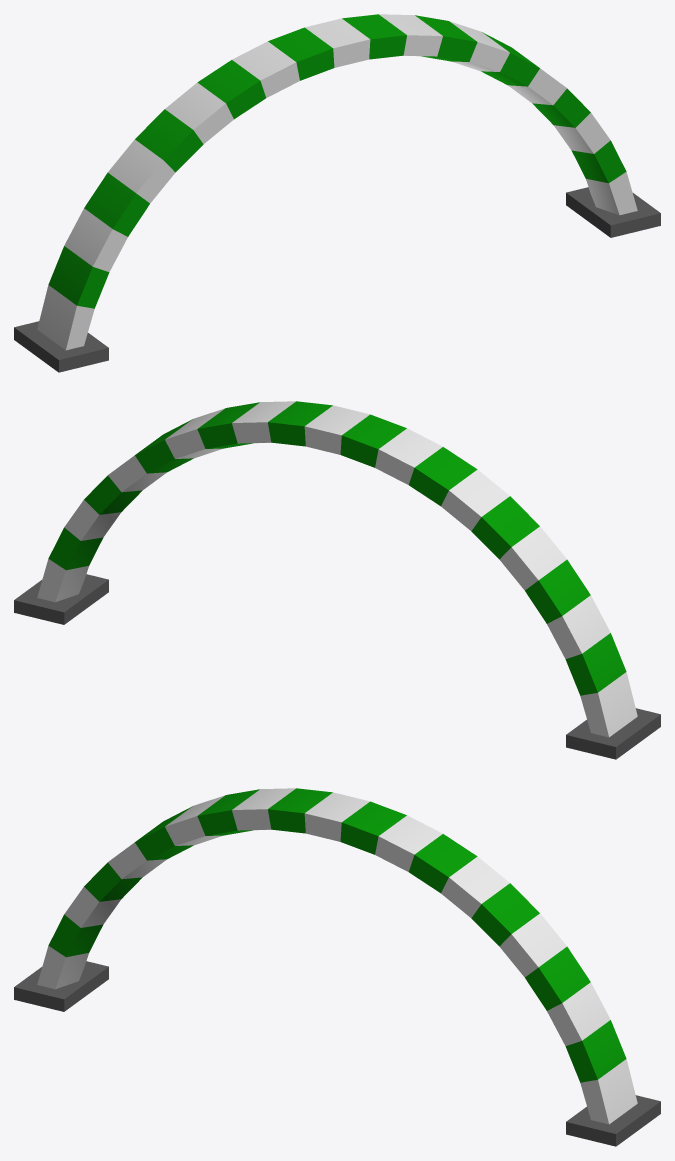
The model's file is ETC0510013.fbx.
3 renders of one model, top to bottom at view 1: azimuth 30°, elevation 25°; view 2: azimuth 150°, elevation 25°; view 3: azimuth 330°, elevation 25°, orthographic.
Parts seen in each view (by area): view 1: smETC0510013; view 2: smETC0510013; view 3: smETC0510013.
Part boxes in pixels (x1,y1,x2,y2): smETC0510013: (14, 14, 660, 372); smETC0510013: (14, 401, 660, 759); smETC0510013: (14, 788, 660, 1146).
Size of the model in its own units: 1800 by 713 by 232.
1 material, 1 textured.
